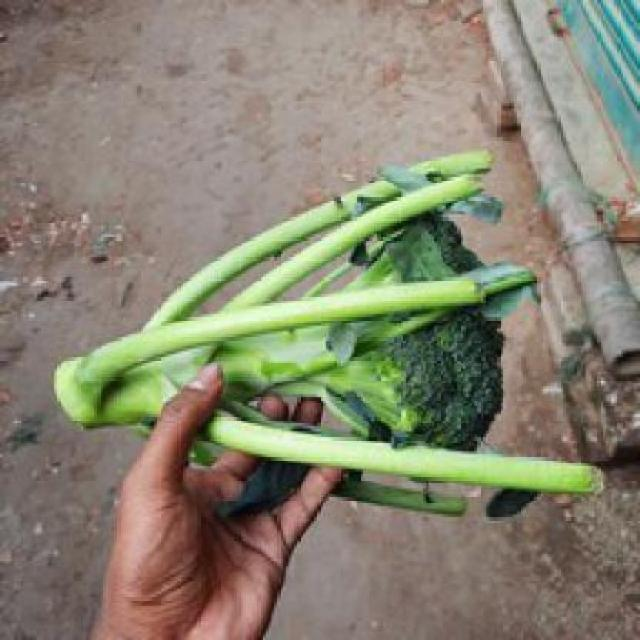broccoli: (72, 194, 554, 463)
